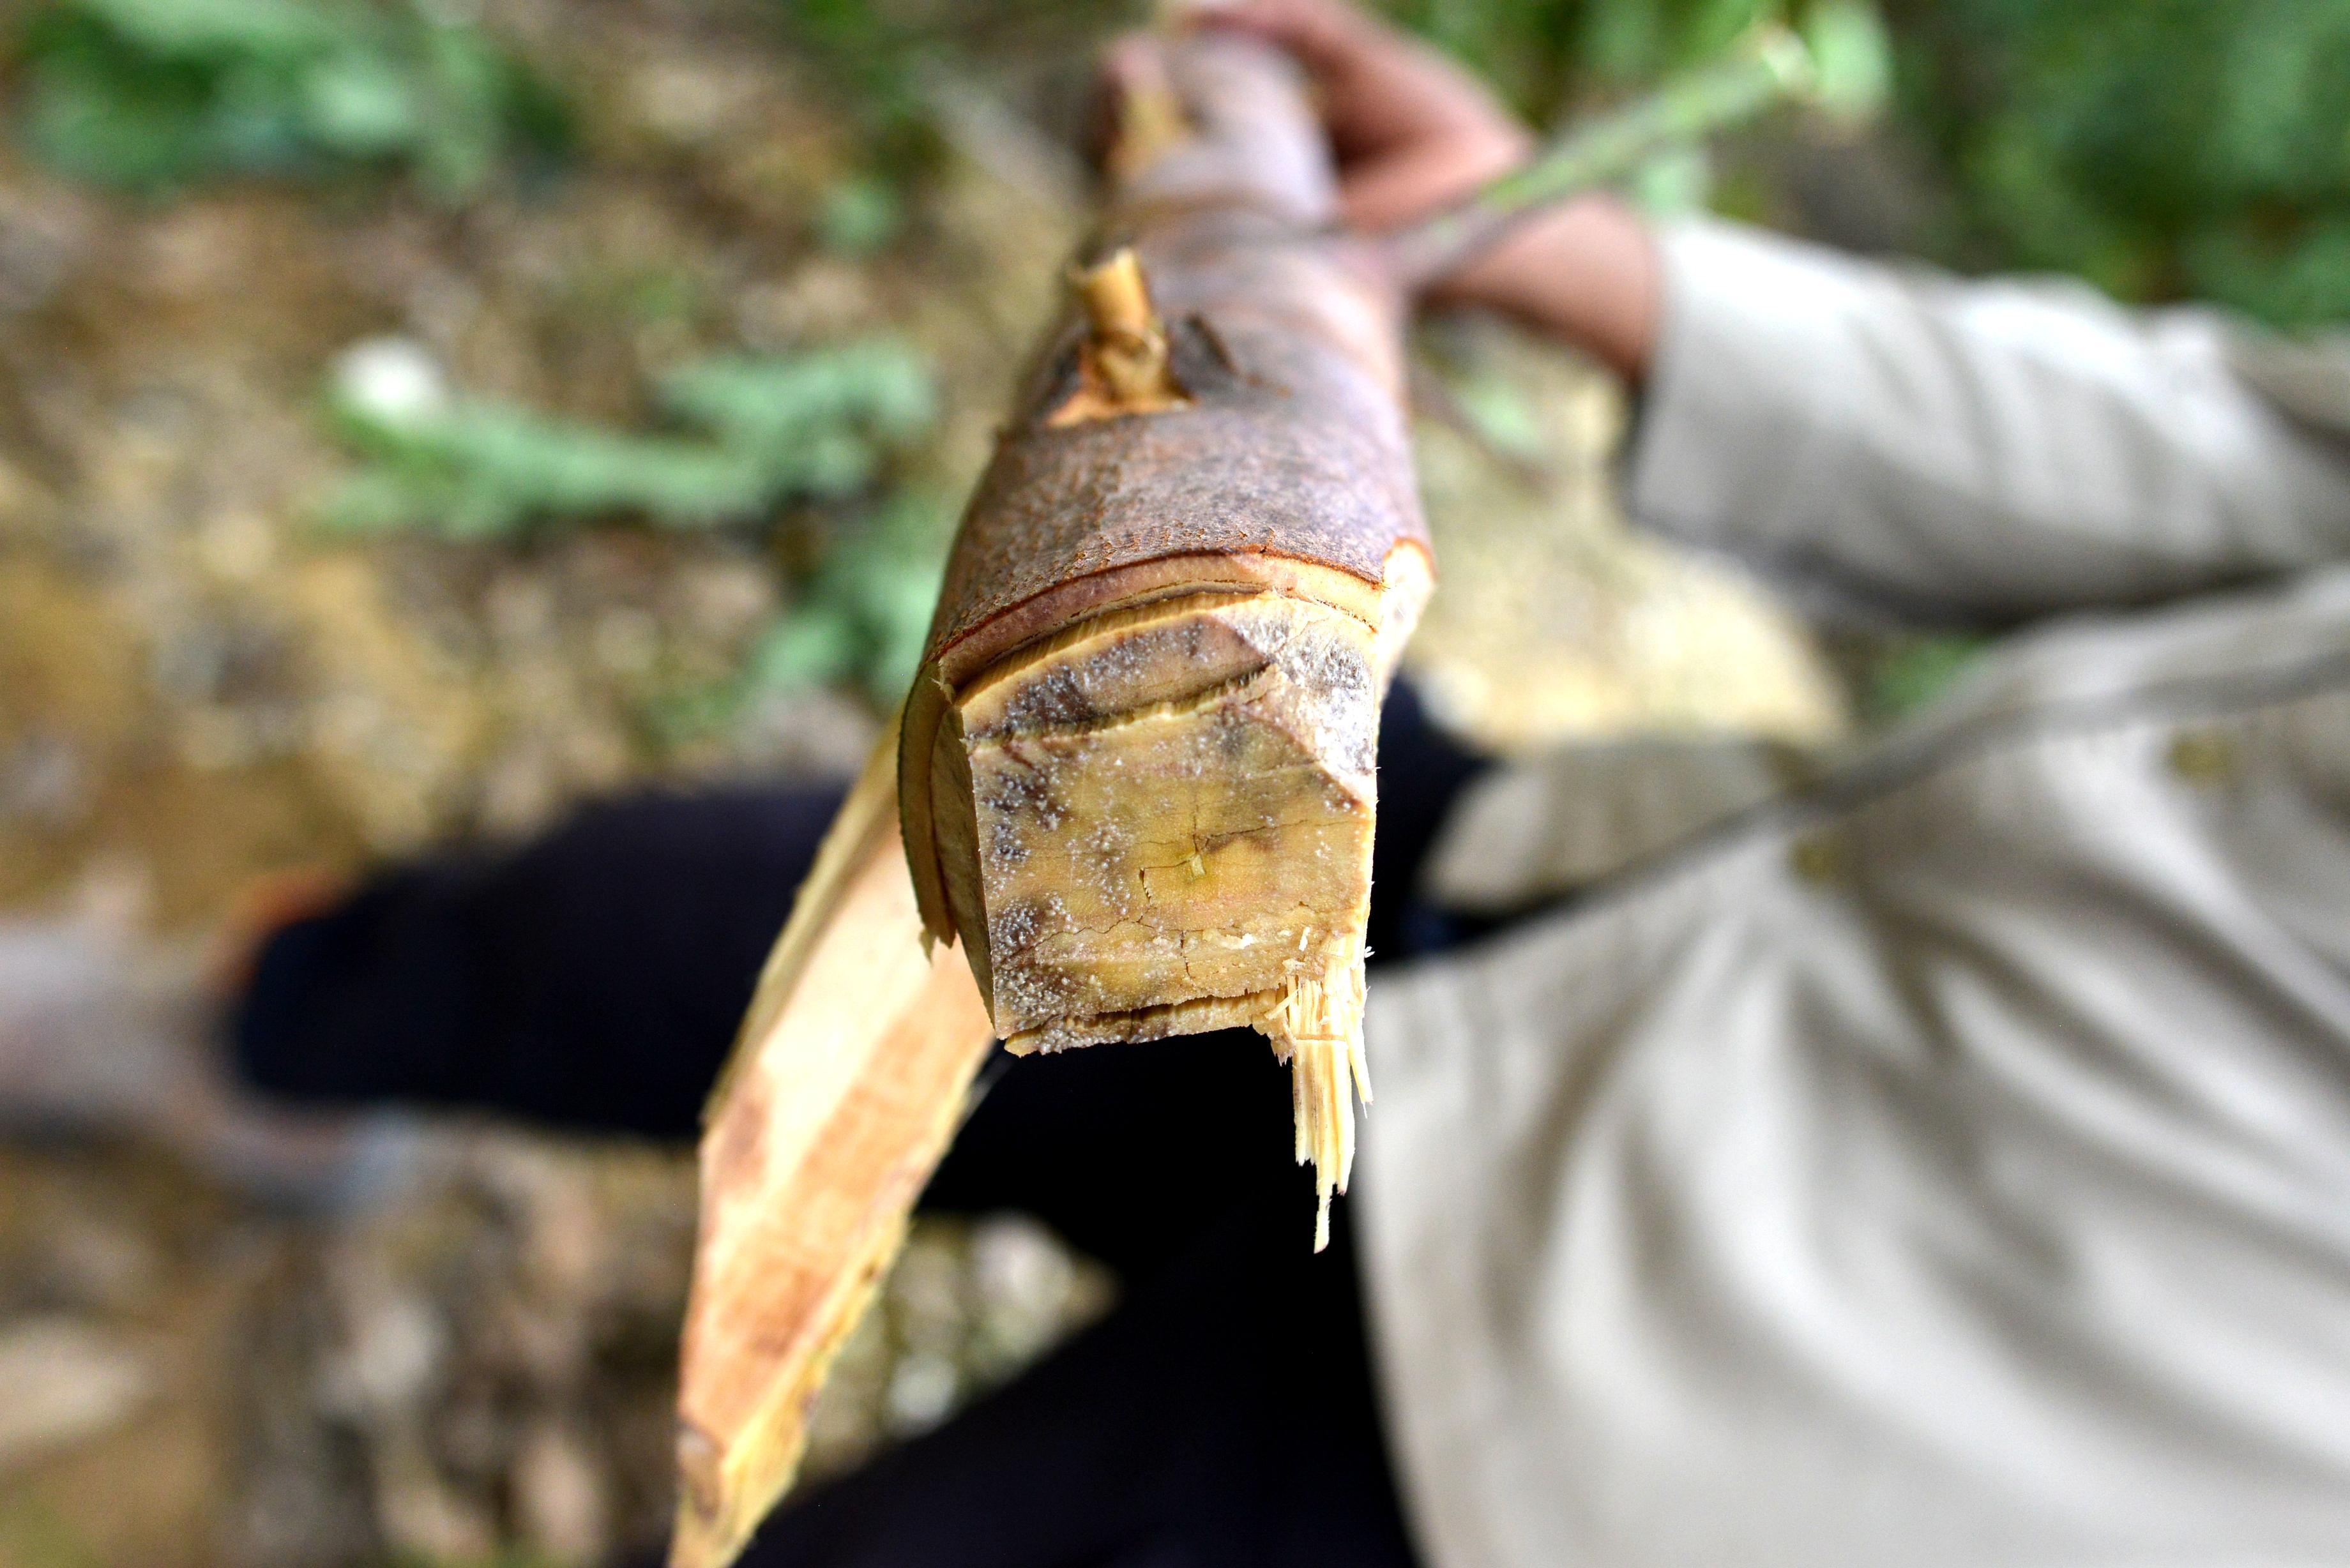Ralstonia: (989, 607, 1368, 717), (1097, 733, 1241, 877), (989, 894, 1115, 1045), (980, 749, 1078, 880), (1255, 723, 1374, 800)
